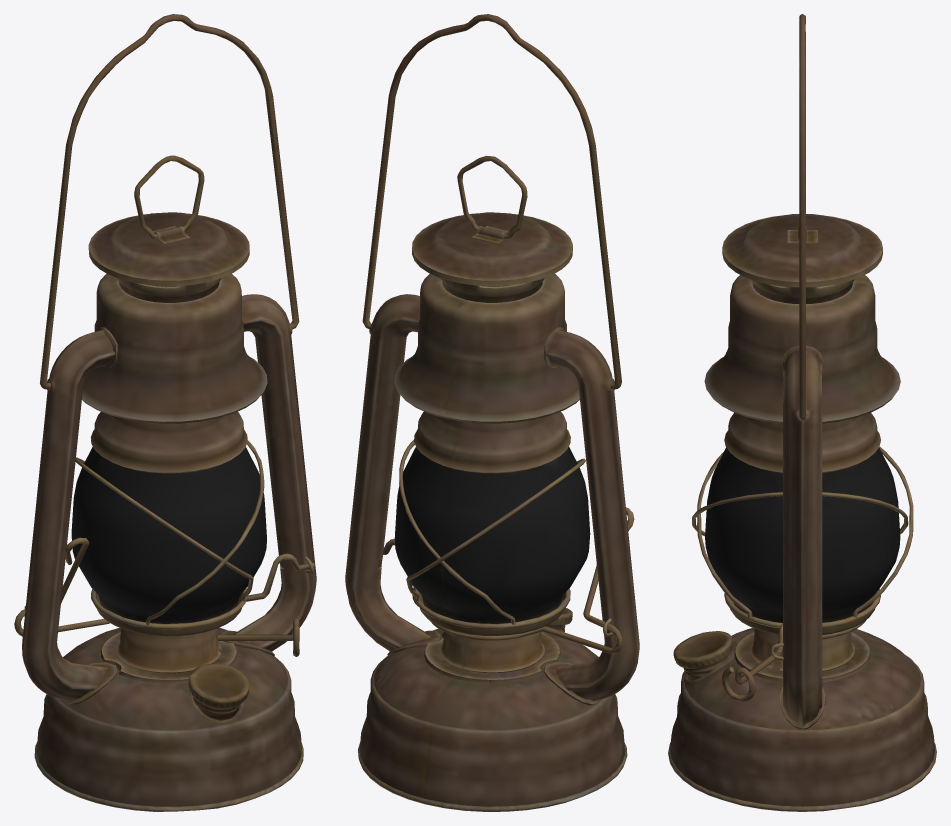
Rendered from lantern_ph.glb.
The picture shows the model from 3 angles, left to right: view 1: azimuth 30°, elevation 25°; view 2: azimuth 150°, elevation 25°; view 3: azimuth 270°, elevation 25°; orthographic projection.
Visible parts, largest first — view 1: Lantern_01, Lantern_01_glass; view 2: Lantern_01, Lantern_01_glass; view 3: Lantern_01, Lantern_01_glass.
Part boxes in pixels (<box>): Lantern_01: <box>14,14,316,811</box>; Lantern_01_glass: <box>71,446,266,623</box>; Lantern_01: <box>345,14,639,811</box>; Lantern_01_glass: <box>394,447,590,623</box>; Lantern_01: <box>668,14,936,811</box>; Lantern_01_glass: <box>705,447,900,622</box>.
Bounding box in the file's own units: 0.1221 × 0.2942 × 0.0971.
2 materials, 2 textured.
